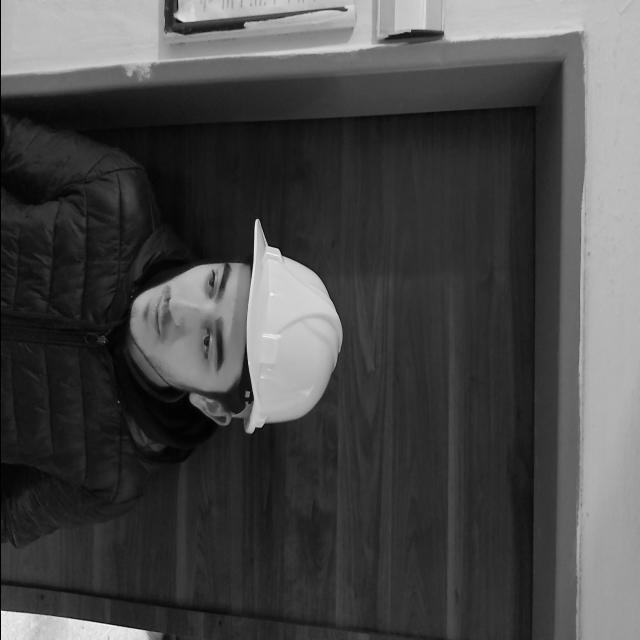safety_helmet: (240, 219, 340, 434)
